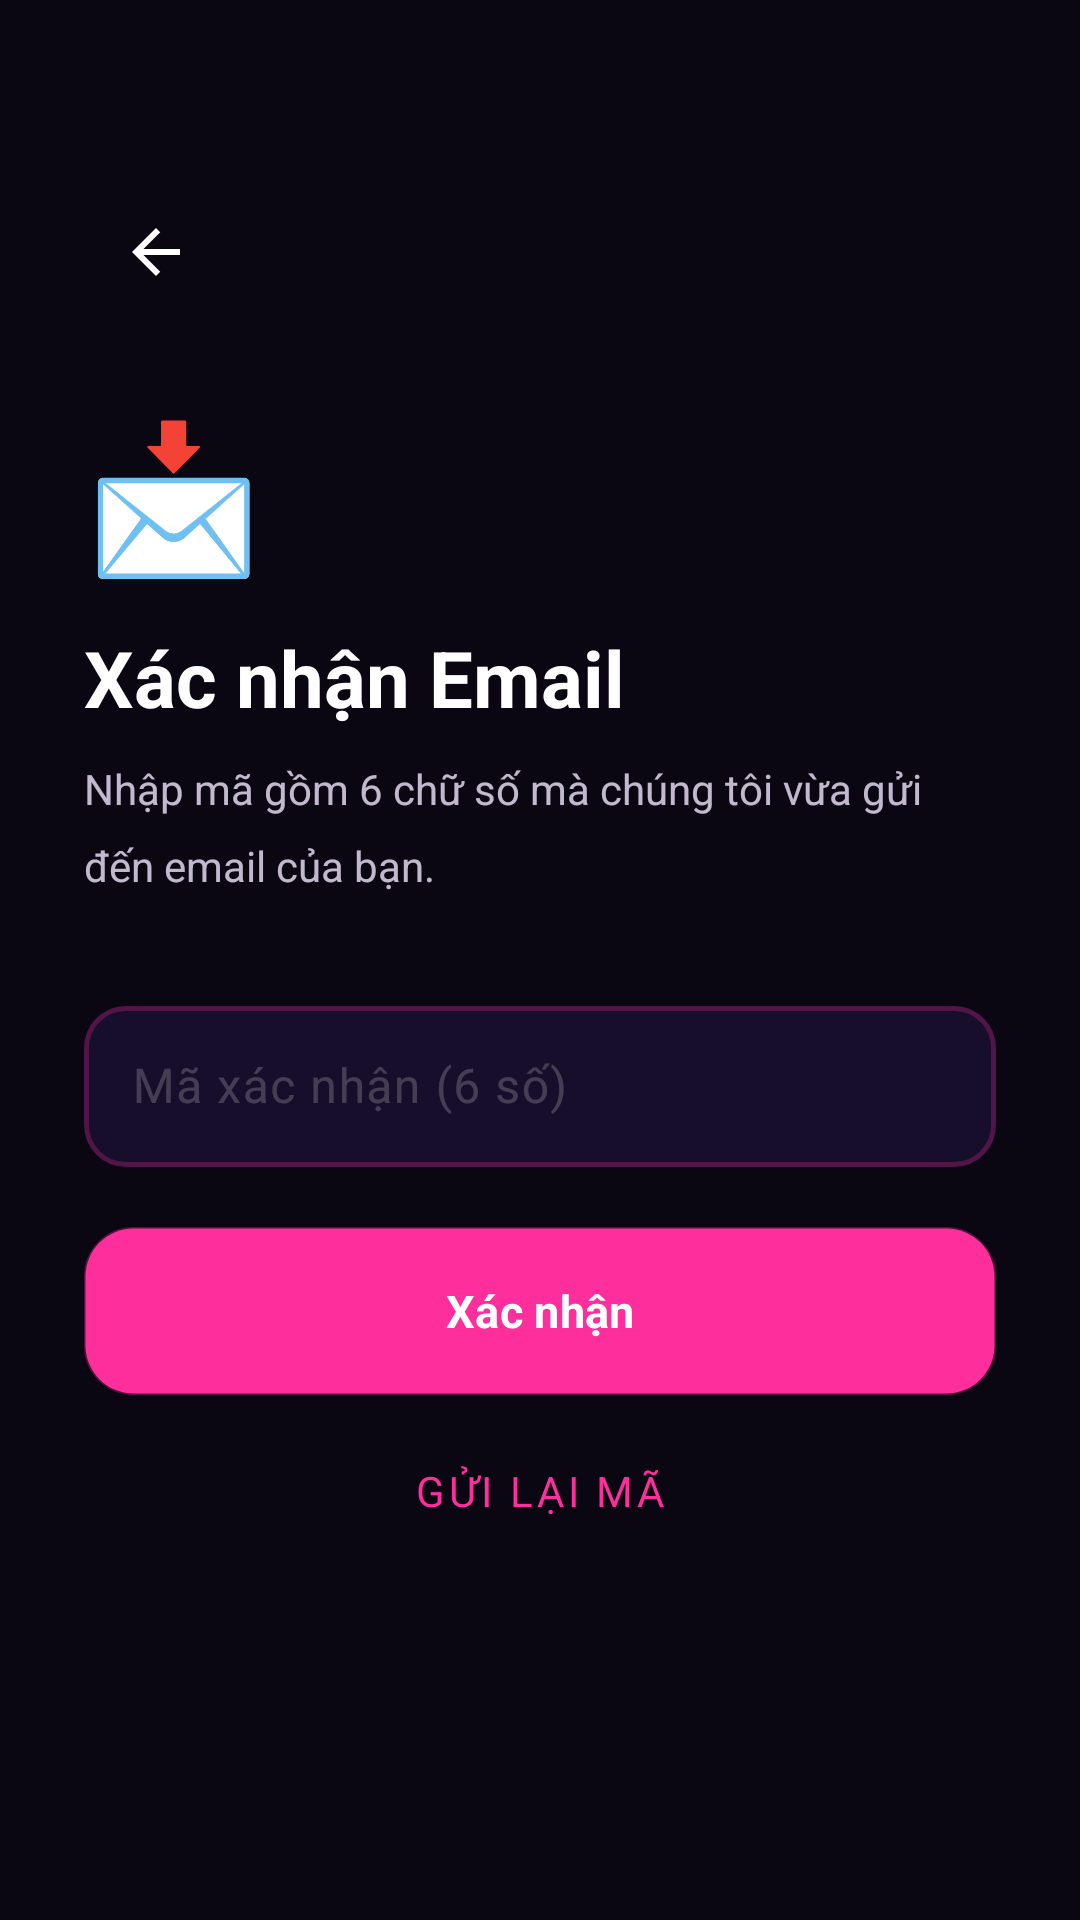

Point at icon controls on the screen. Image size 1080x1920, points as (x=x, y=y).
Quay lại: (x=156, y=252)
